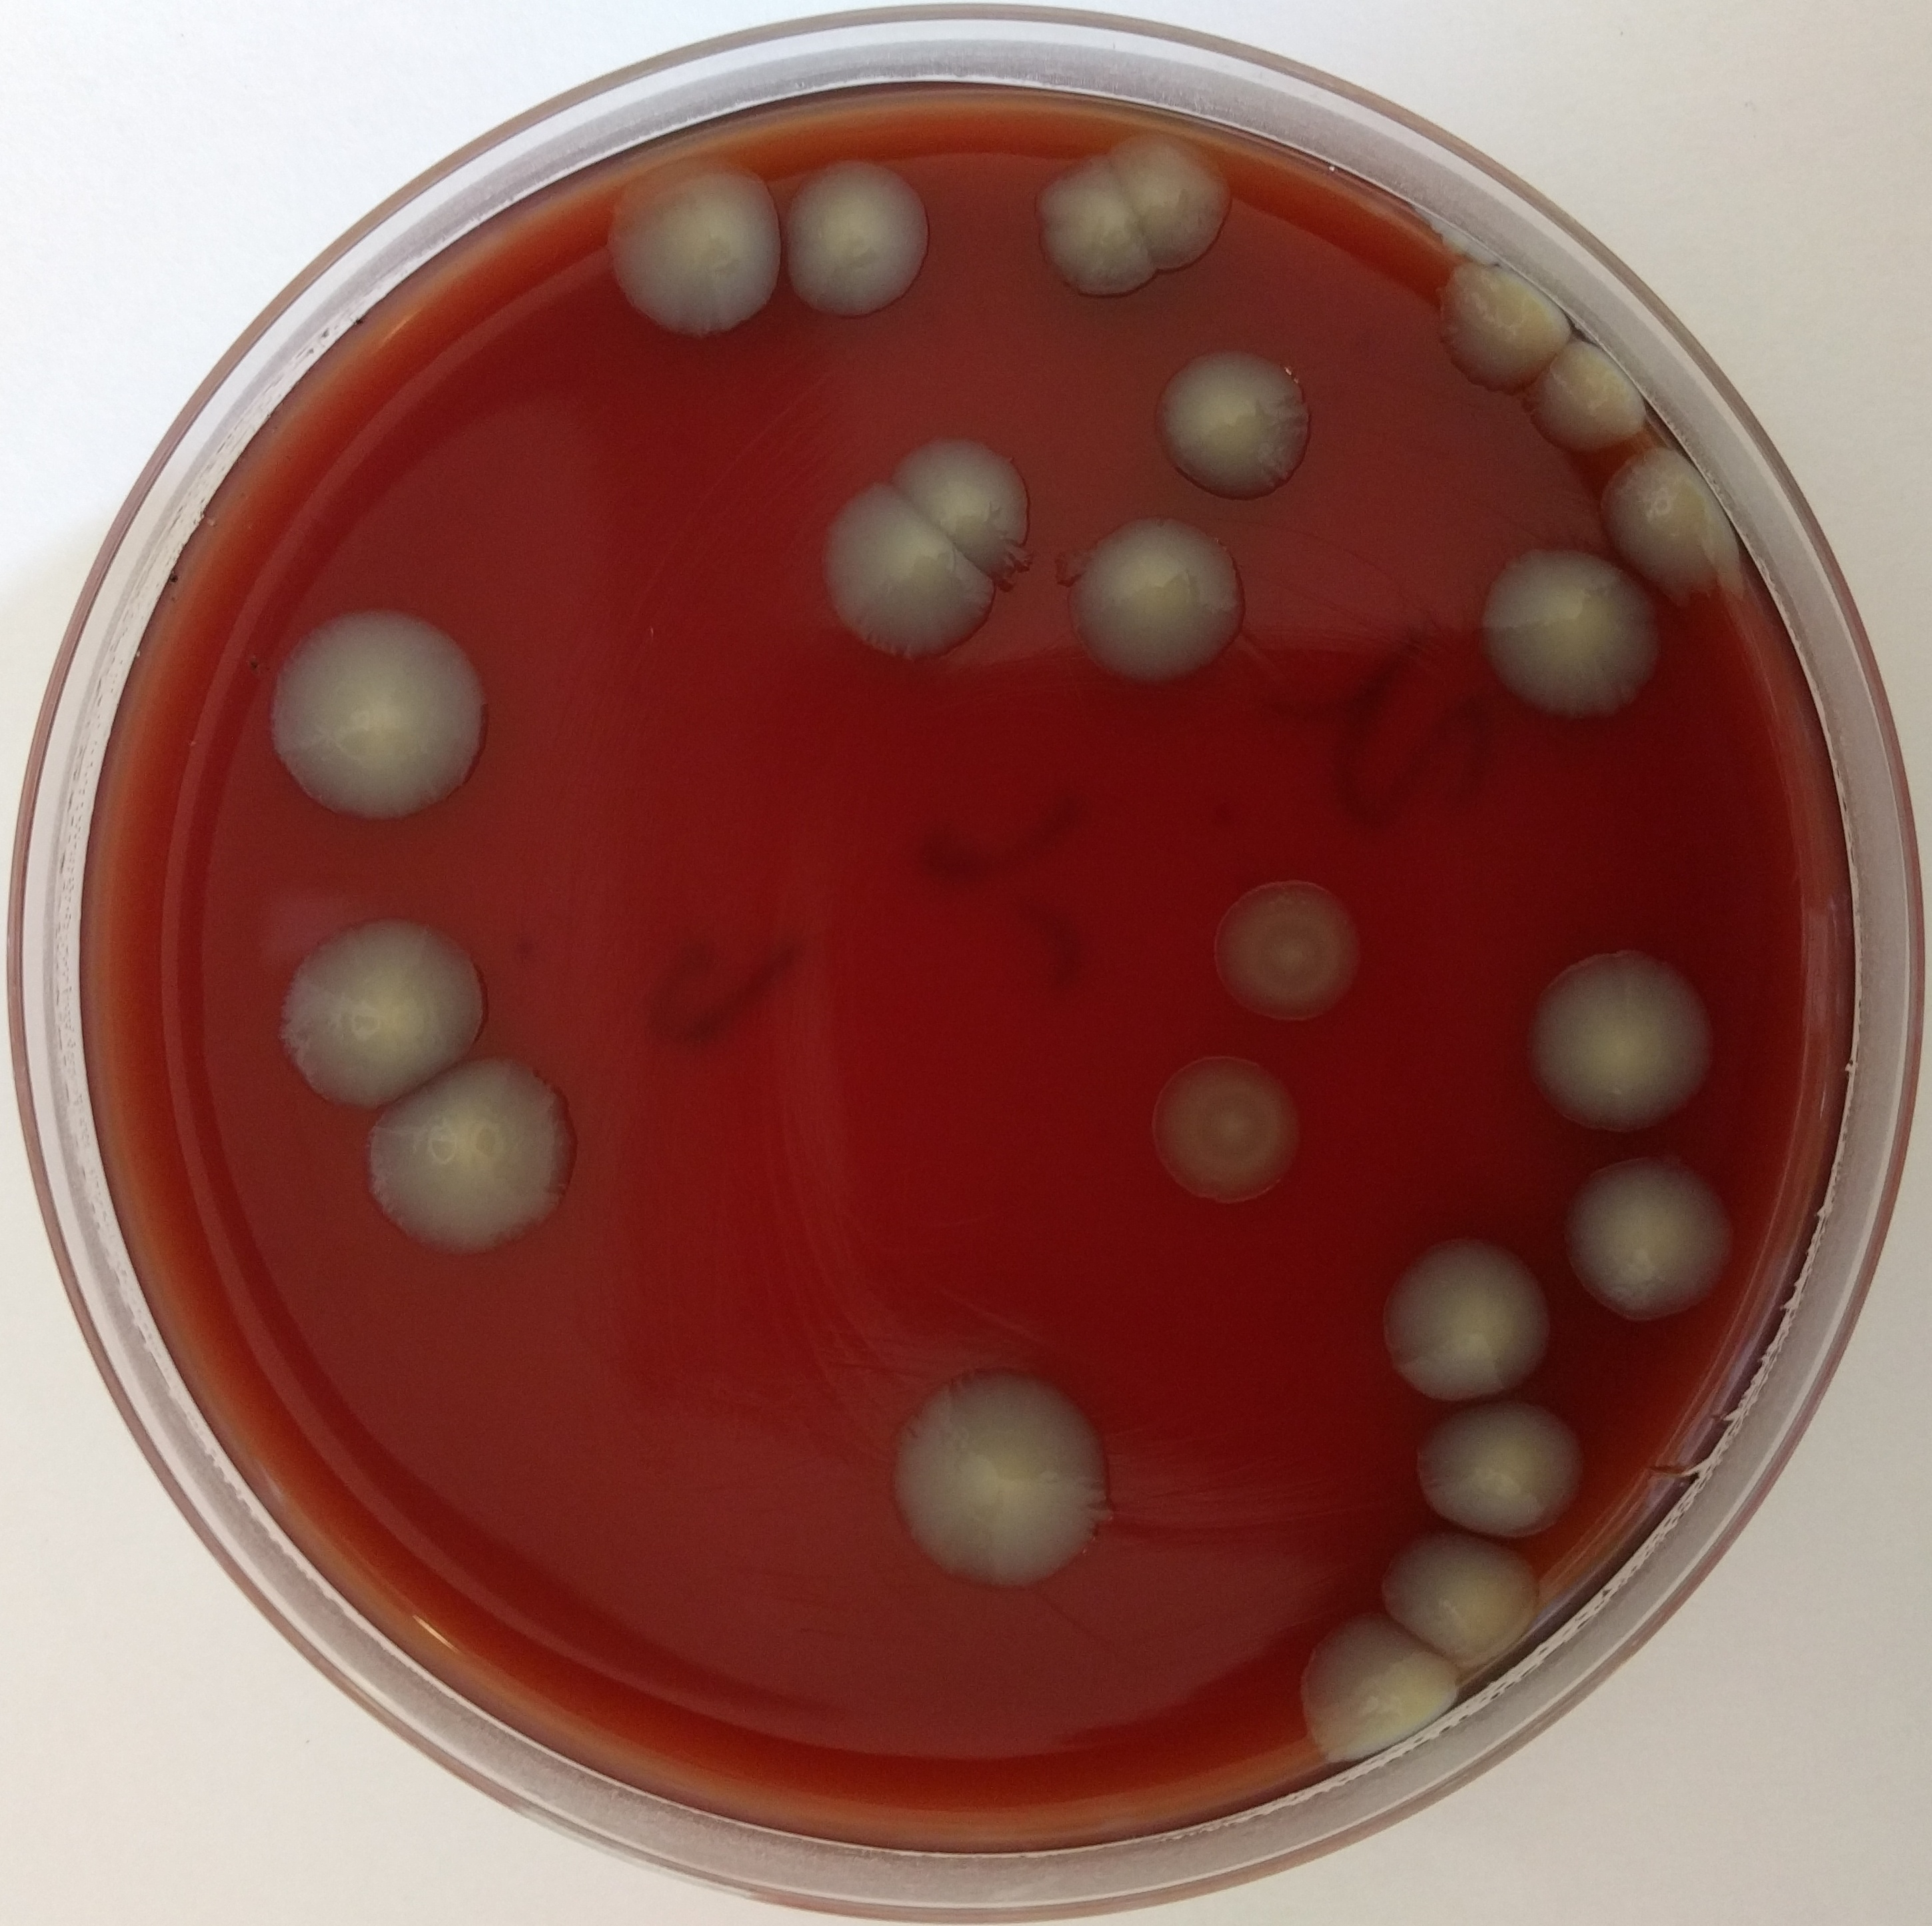sp05: (880, 1362, 1131, 1603), (268, 600, 494, 829), (358, 1042, 588, 1259), (277, 910, 494, 1113), (1523, 938, 1726, 1136), (1471, 549, 1678, 737), (596, 141, 785, 342), (817, 474, 1006, 660), (1069, 510, 1242, 693), (1378, 1228, 1560, 1400), (1572, 1145, 1740, 1323), (787, 141, 939, 333), (1147, 1053, 1318, 1213), (1300, 1609, 1464, 1767), (1373, 1533, 1563, 1667), (1156, 342, 1322, 494), (1408, 1400, 1597, 1533), (1210, 873, 1367, 1028), (893, 429, 1036, 593), (1604, 446, 1752, 603), (1433, 245, 1572, 399), (1027, 148, 1154, 298), (1119, 125, 1235, 263), (1526, 335, 1651, 452)
